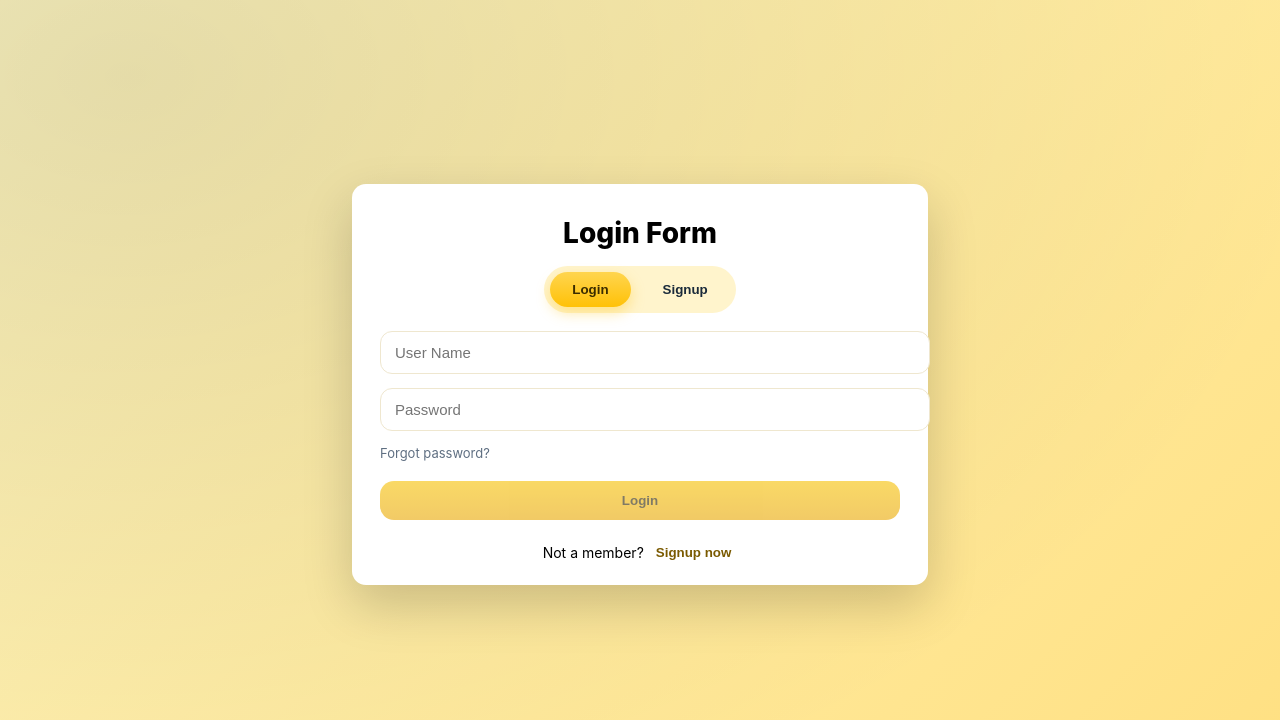
it: LoginSignup Component › Tab Navigation Tests › should switch to signup via footer link
The width and height of the screenshot is (1280, 720).
Click the button "Signup now": (694, 552) [650,544,737,560]
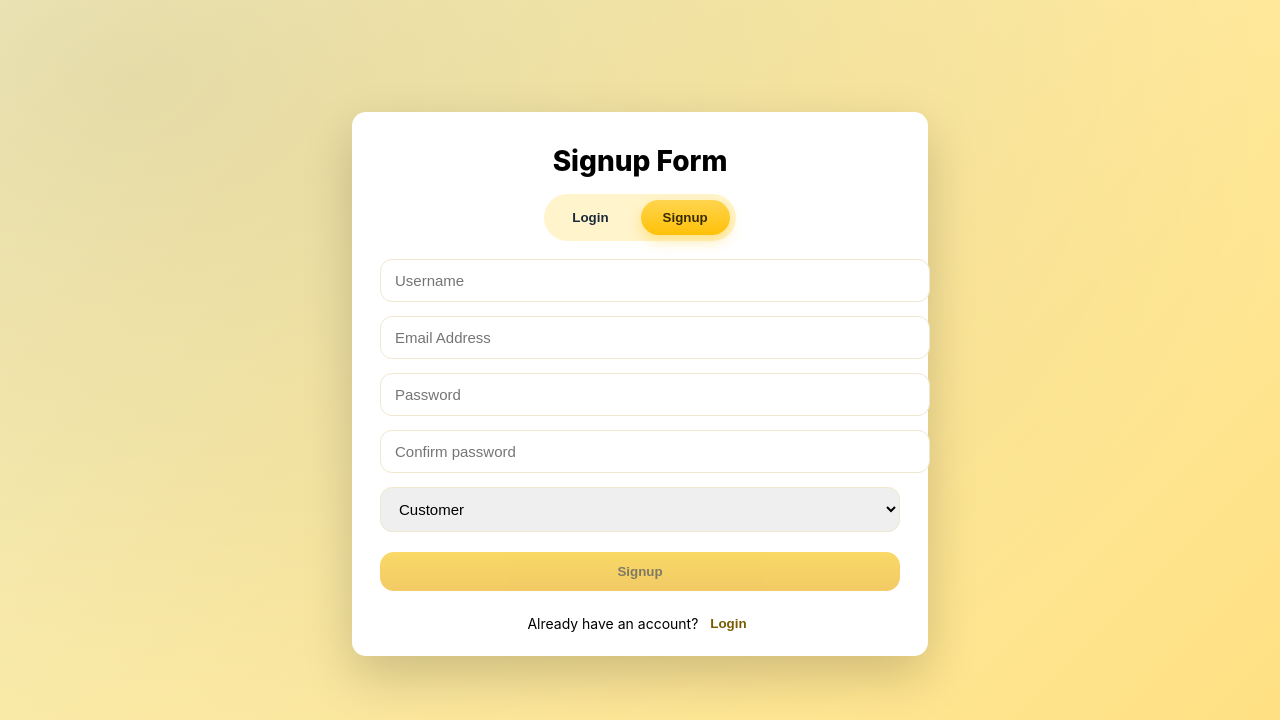
Check: the heading "Signup Form" is shown, box [553,144,727,178]
